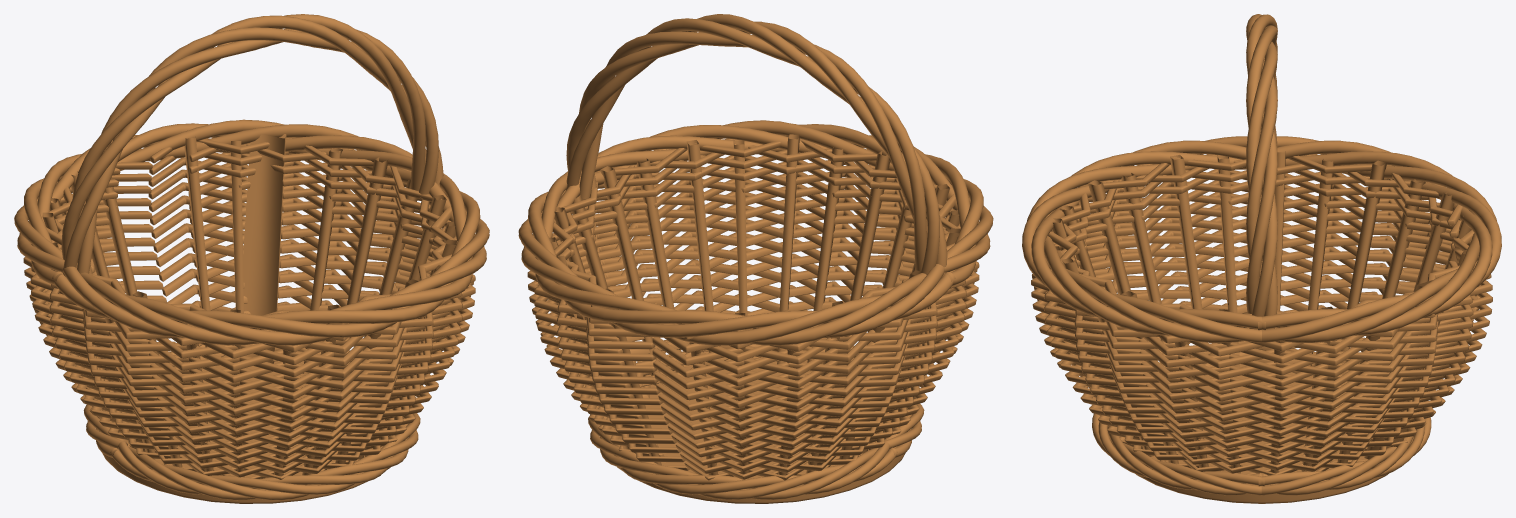
Rendered from uploads_files_2850183_basket.fbx.
3 views of the same model, side by side, from view 1: azimuth 30°, elevation 25°; view 2: azimuth 150°, elevation 25°; view 3: azimuth 270°, elevation 25° (orthographic). The views are drawn at different scales.
Parts seen in each view (by area): view 1: Default; view 2: Default; view 3: Default.
Boxes of the visible parts, <box> form: Default: <box>14,14,489,503</box>; Default: <box>518,14,993,503</box>; Default: <box>1022,14,1501,503</box>.
Size of the model in its own units: 5.38 by 5.44 by 5.8.
